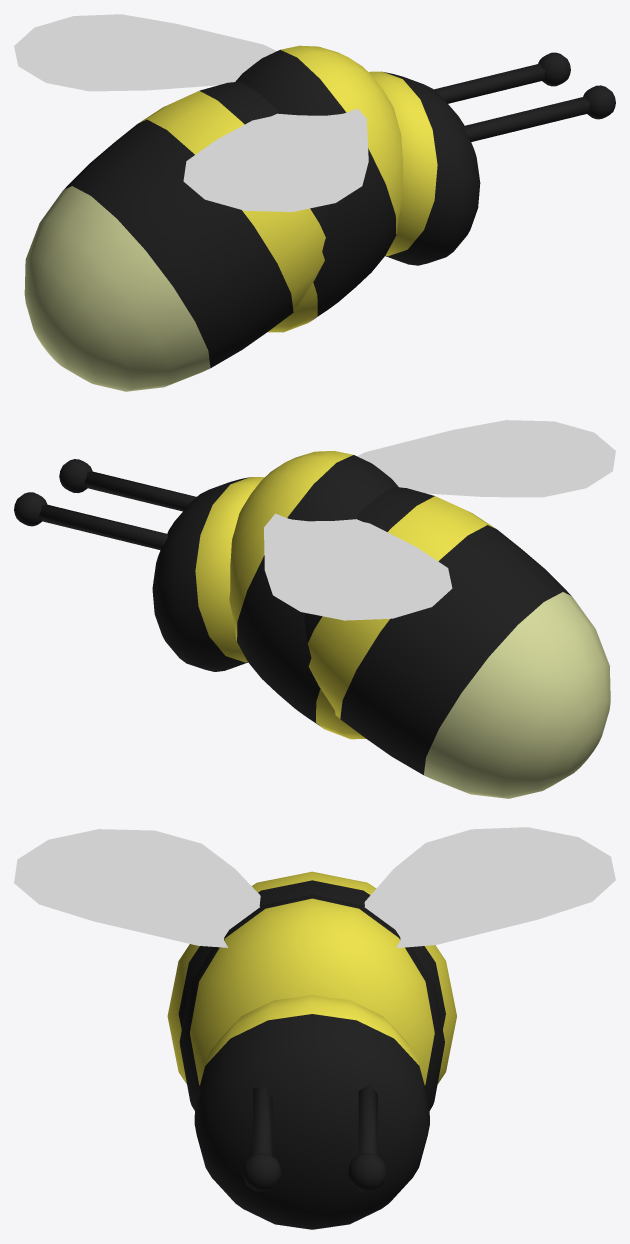
Rendered from Bee_Static.glb.
3 views of the same model, one above another, from view 1: azimuth 30°, elevation 25°; view 2: azimuth 150°, elevation 25°; view 3: azimuth 270°, elevation 25° (orthographic). The views are drawn at different scales.
Parts seen in each view (by area): view 1: Back, Center, Wing1.001, Wing1, Head, Antenna.001, Antenna; view 2: Back, Center, Wing1.001, Wing1, Head, Antenna, Antenna.001; view 3: Head, Center, Wing1.001, Wing1, Back, Antenna, Antenna.001.
Boxes of the visible parts, x1=… form: Back: x1=24, y1=81, x2=329, y2=391; Center: x1=235, y1=45, x2=403, y2=332; Wing1.001: x1=14, y1=14, x2=276, y2=91; Wing1: x1=183, y1=108, x2=368, y2=211; Head: x1=369, y1=71, x2=480, y2=265; Antenna.001: x1=463, y1=85, x2=615, y2=141; Antenna: x1=434, y1=52, x2=570, y2=103; Back: x1=304, y1=487, x2=610, y2=798; Center: x1=229, y1=450, x2=398, y2=739; Wing1.001: x1=264, y1=513, x2=452, y2=620; Wing1: x1=357, y1=420, x2=615, y2=497; Head: x1=152, y1=477, x2=264, y2=671; Antenna: x1=14, y1=492, x2=167, y2=550; Antenna.001: x1=59, y1=459, x2=196, y2=511; Head: x1=194, y1=995, x2=429, y2=1229; Center: x1=179, y1=894, x2=444, y2=1110; Wing1.001: x1=364, y1=827, x2=615, y2=948; Wing1: x1=14, y1=829, x2=260, y2=947; Back: x1=167, y1=871, x2=456, y2=1084; Antenna: x1=347, y1=1084, x2=387, y2=1191; Antenna.001: x1=242, y1=1086, x2=281, y2=1191.
Size of the model in its own units: 3.45 by 1.69 by 2.77.
